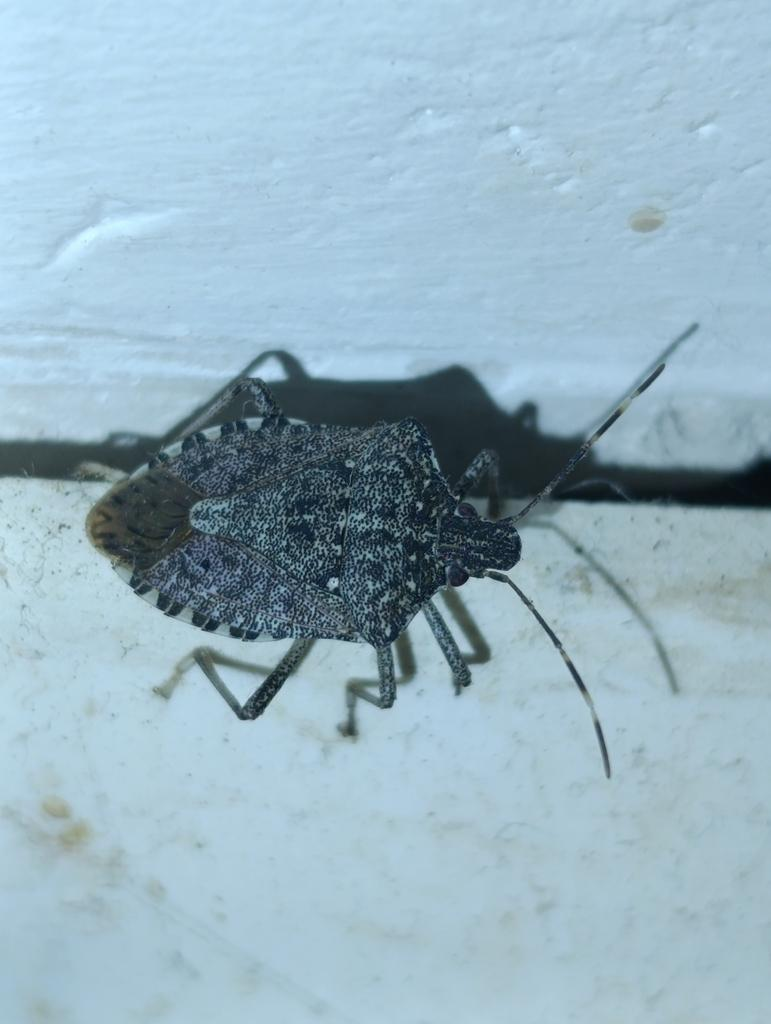stink_bugs: (12, 258, 771, 838)
